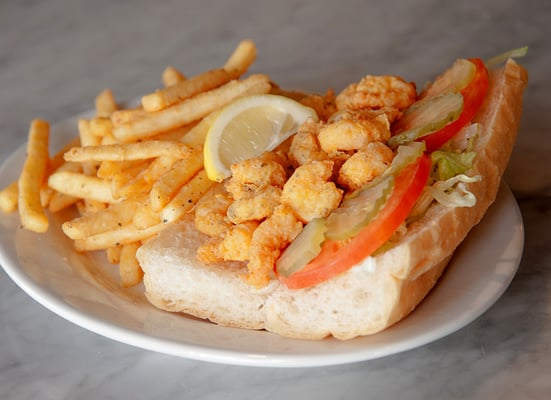pizza: (17, 118, 51, 233)
